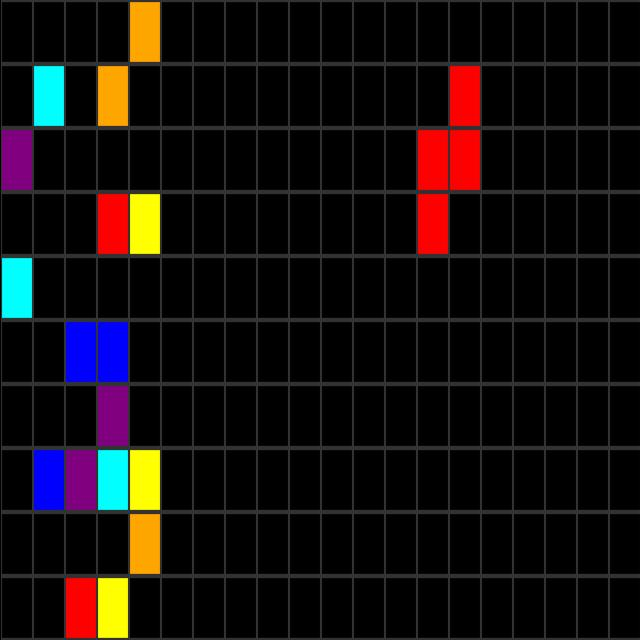Tetrimino_T: (416, 66, 479, 254)
